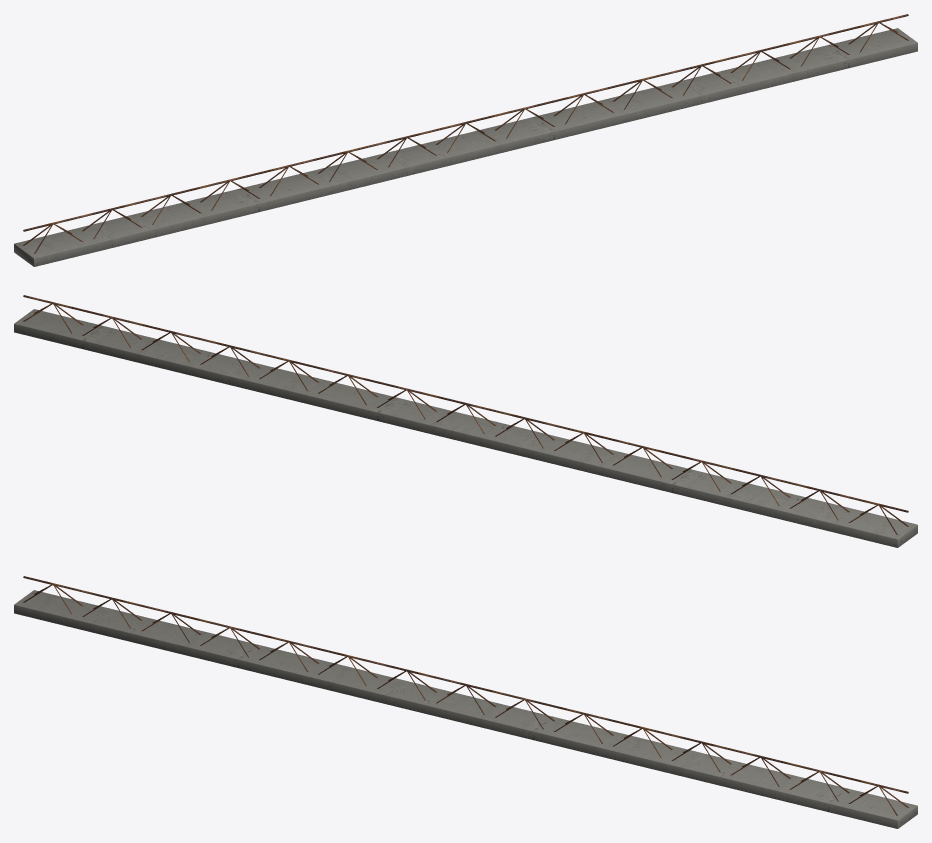
Rendered from EST-LAJ-001.glb.
The picture shows the model from 3 angles, top to bottom: view 1: azimuth 30°, elevation 25°; view 2: azimuth 150°, elevation 25°; view 3: azimuth 330°, elevation 25°; orthographic projection.
Parts seen in each view (by area): view 1: EST-LAJ-001_sapata, EST-LAJ-001_banzo_sup, EST-LAJ-001_sinus, EST-LAJ-001_sinus.001; view 2: EST-LAJ-001_sapata, EST-LAJ-001_banzo_sup, EST-LAJ-001_sinus.001, EST-LAJ-001_sinus; view 3: EST-LAJ-001_sapata, EST-LAJ-001_banzo_sup, EST-LAJ-001_sinus, EST-LAJ-001_sinus.001.
Boxes of the visible parts, box(x1,y1,x2,y2) form: EST-LAJ-001_sapata: box(14, 28, 917, 266); EST-LAJ-001_banzo_sup: box(23, 14, 908, 231); EST-LAJ-001_sinus: box(30, 22, 908, 260); EST-LAJ-001_sinus.001: box(17, 23, 897, 250); EST-LAJ-001_sapata: box(14, 309, 917, 547); EST-LAJ-001_banzo_sup: box(23, 295, 908, 512); EST-LAJ-001_sinus.001: box(23, 303, 901, 541); EST-LAJ-001_sinus: box(34, 304, 914, 531); EST-LAJ-001_sapata: box(14, 590, 917, 828); EST-LAJ-001_banzo_sup: box(23, 576, 908, 793); EST-LAJ-001_sinus: box(23, 584, 901, 822); EST-LAJ-001_sinus.001: box(34, 585, 914, 812).
Size of the model in its own units: 3 by 0.0975 by 0.1199.
Materials: 2 (2 with a texture image).
